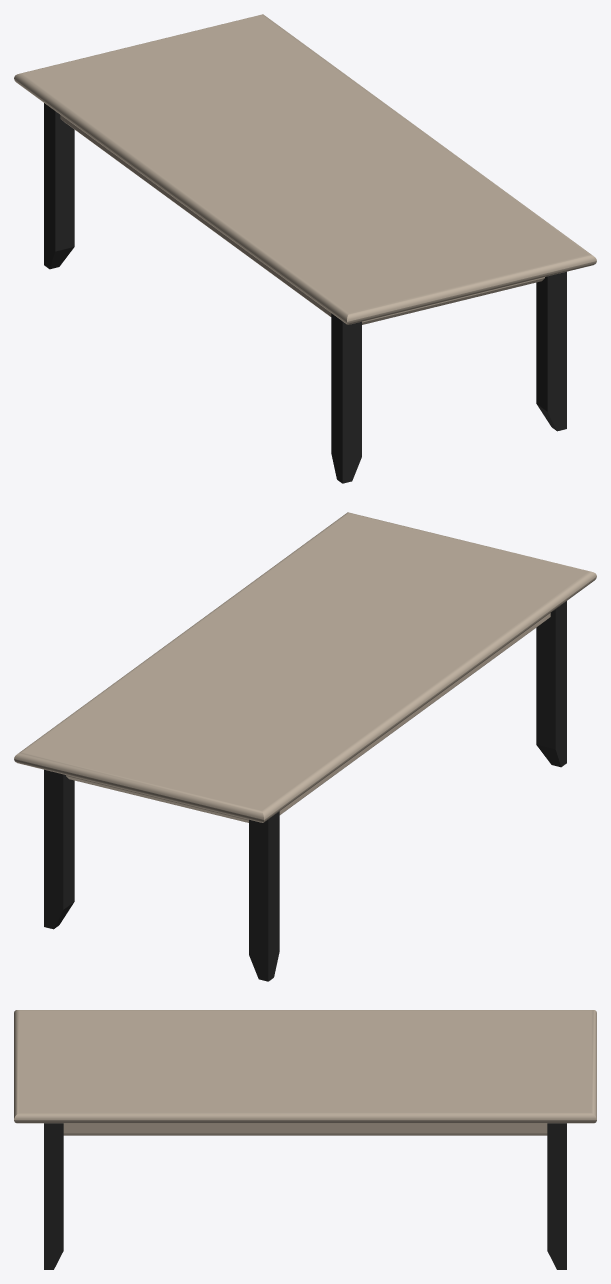
The model's file is GrandeTable_49.fbx.
3 views of the same model, one above another, from view 1: azimuth 30°, elevation 25°; view 2: azimuth 150°, elevation 25°; view 3: azimuth 270°, elevation 25° (orthographic). The views are drawn at different scales.
Visible parts, largest first — view 1: pCube89, pCube90; view 2: pCube89, pCube90; view 3: pCube89, pCube90.
Part boxes in pixels (box(x1,y1,x2,y2)): pCube89: box(14, 14, 596, 324); pCube90: box(44, 103, 566, 483); pCube89: box(14, 512, 596, 822); pCube90: box(44, 601, 566, 981); pCube89: box(14, 1010, 596, 1135); pCube90: box(44, 1123, 566, 1269).
Size of the model in its own units: 56.89 by 39.8 by 131.
